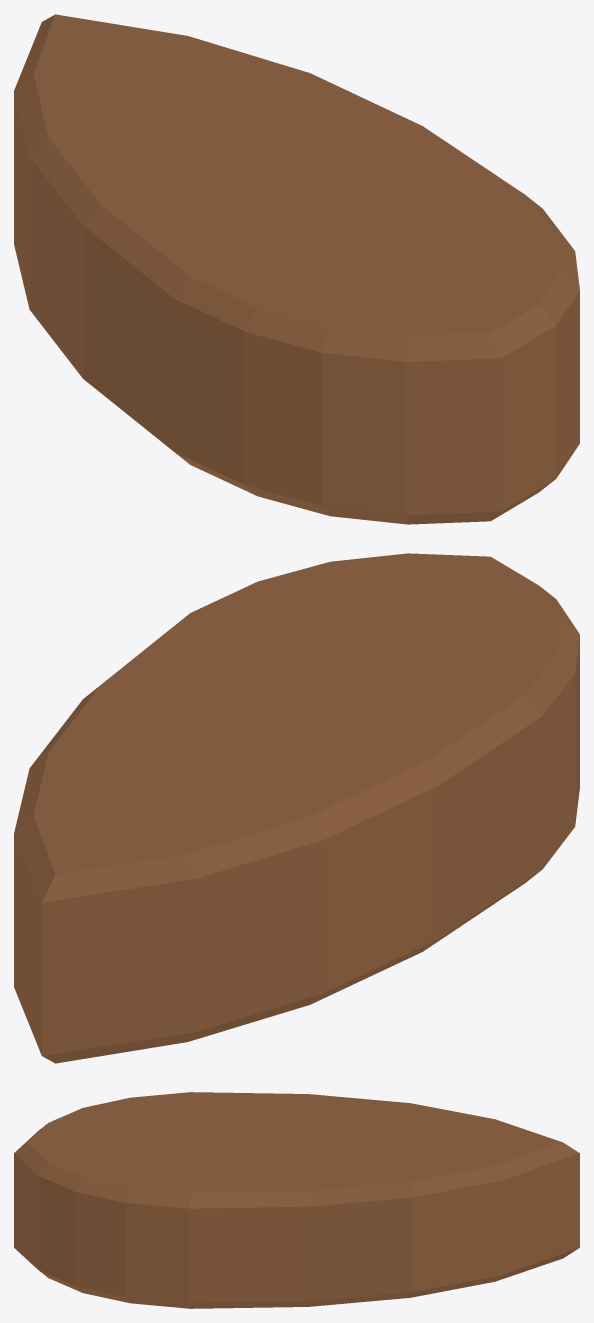
File: boat.glb
The picture shows the model from 3 angles, top to bottom: view 1: azimuth 30°, elevation 25°; view 2: azimuth 150°, elevation 25°; view 3: azimuth 270°, elevation 25°; orthographic projection. The views are drawn at different scales.
Parts seen in each view (by area): view 1: boat; view 2: boat; view 3: boat.
Part boxes in pixels (x1=…): boat: x1=14, y1=14, x2=579, y2=524; boat: x1=14, y1=553, x2=579, y2=1063; boat: x1=14, y1=1092, x2=579, y2=1308.
Size of the model in its own units: 2.29 by 1.12 by 4.94.
